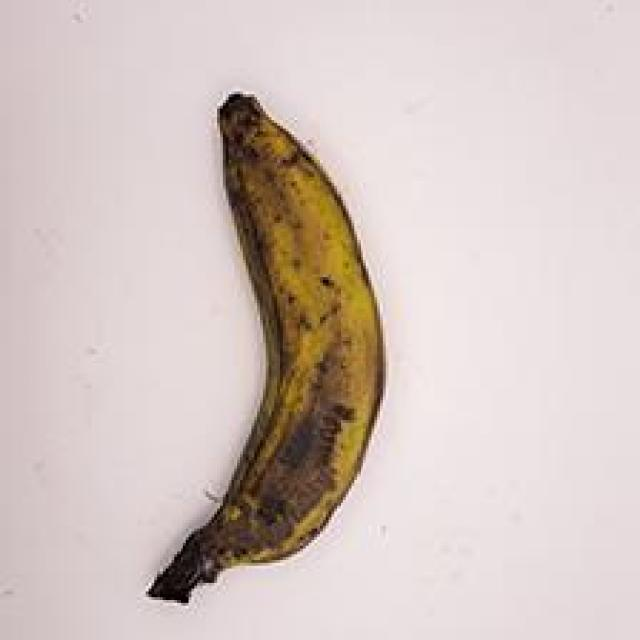Overripe: (104, 72, 419, 621)
